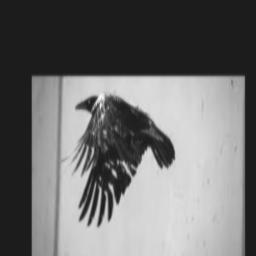Crow: (60, 94, 176, 227)
